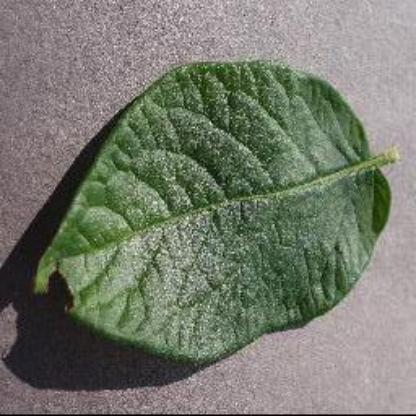Healthy-plant: (68, 45, 398, 379)
